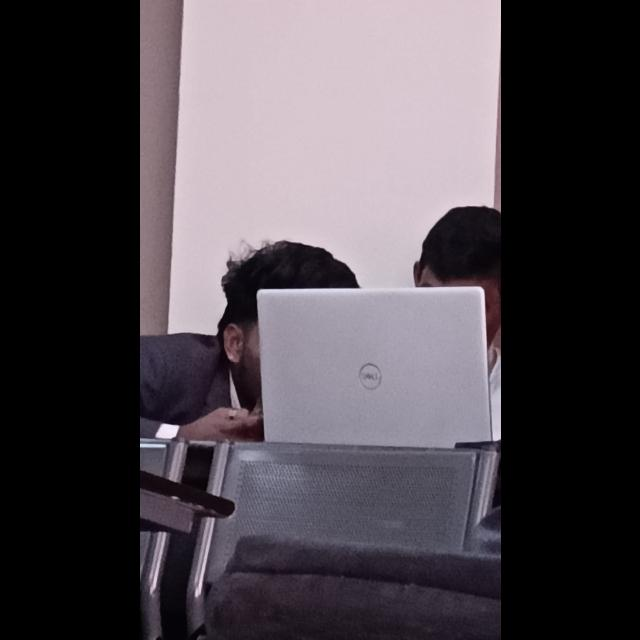laptop: (252, 290, 496, 456)
